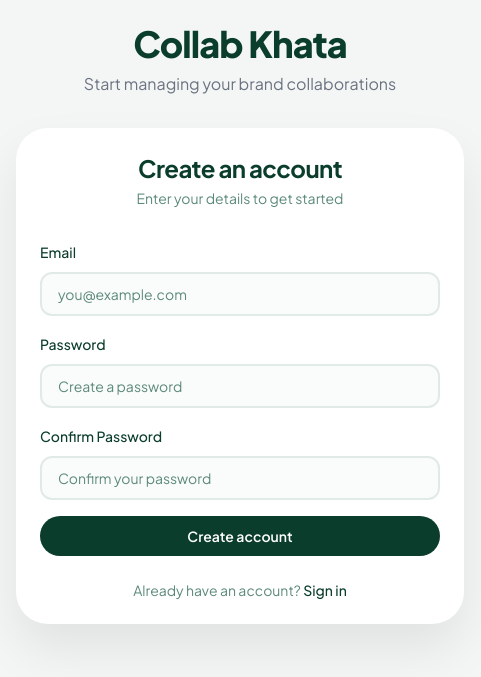
RegisterPage › should validate password confirmation match
The width and height of the screenshot is (481, 677).
In the field labelled "Email": [240, 294] box [40,272,440,316], type "test@example.com"
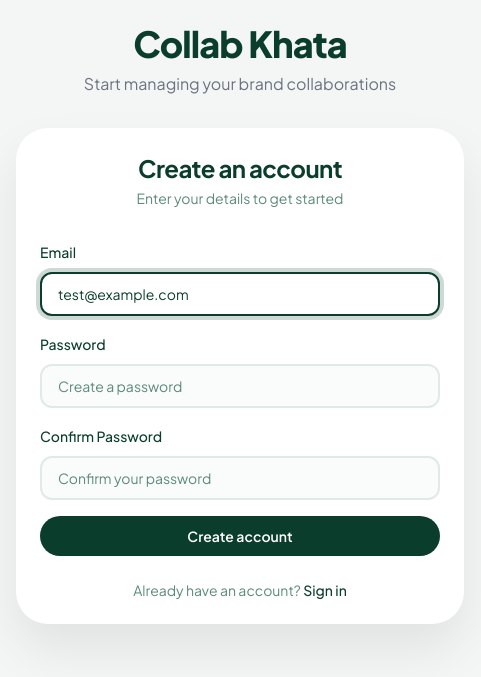
In the password field labelled "Password": [240, 386] box [40,364,440,408], type "password123"
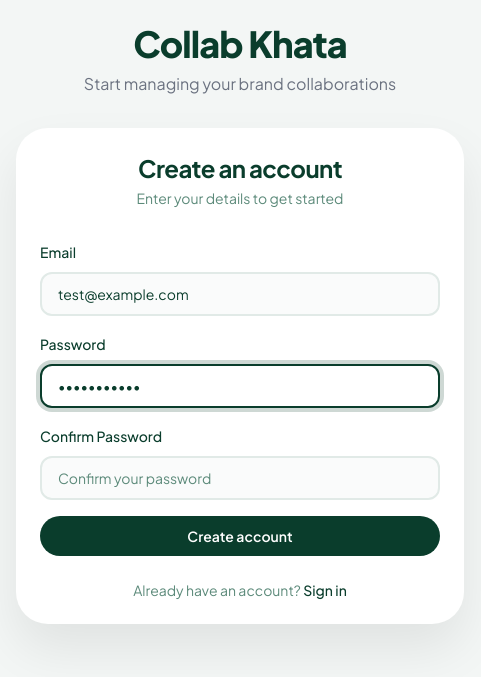
In the password field labelled "Confirm Password": [240, 478] box [40,456,440,500], type "password456"
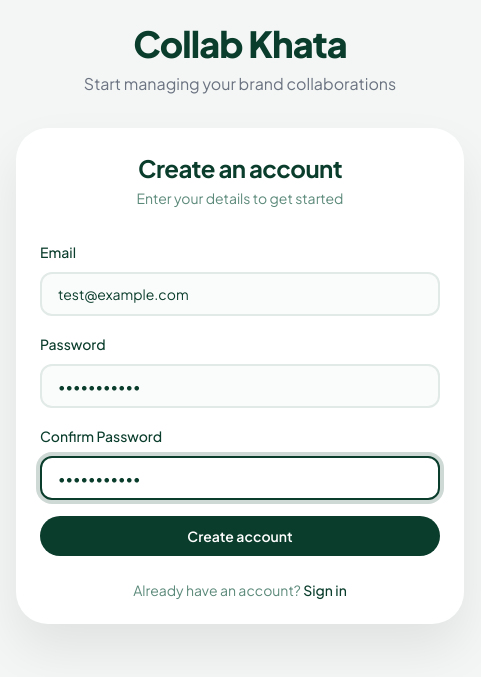
Click the button "Create account": [240, 536] box [40,516,440,556]
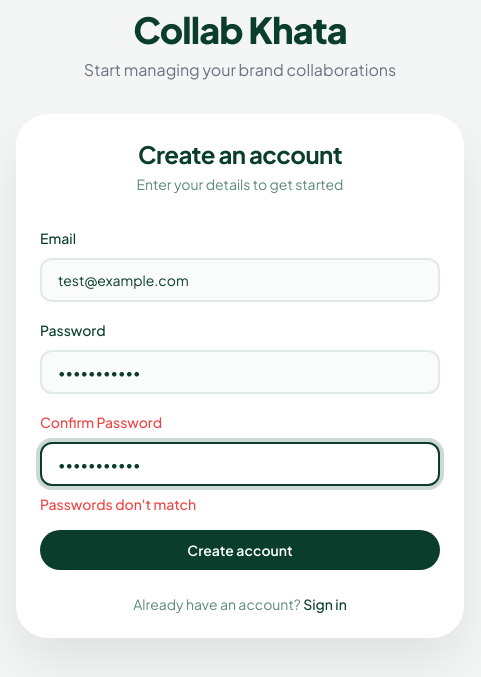
Now the text "Passwords don't match" is shown, box [40,495,196,513]
